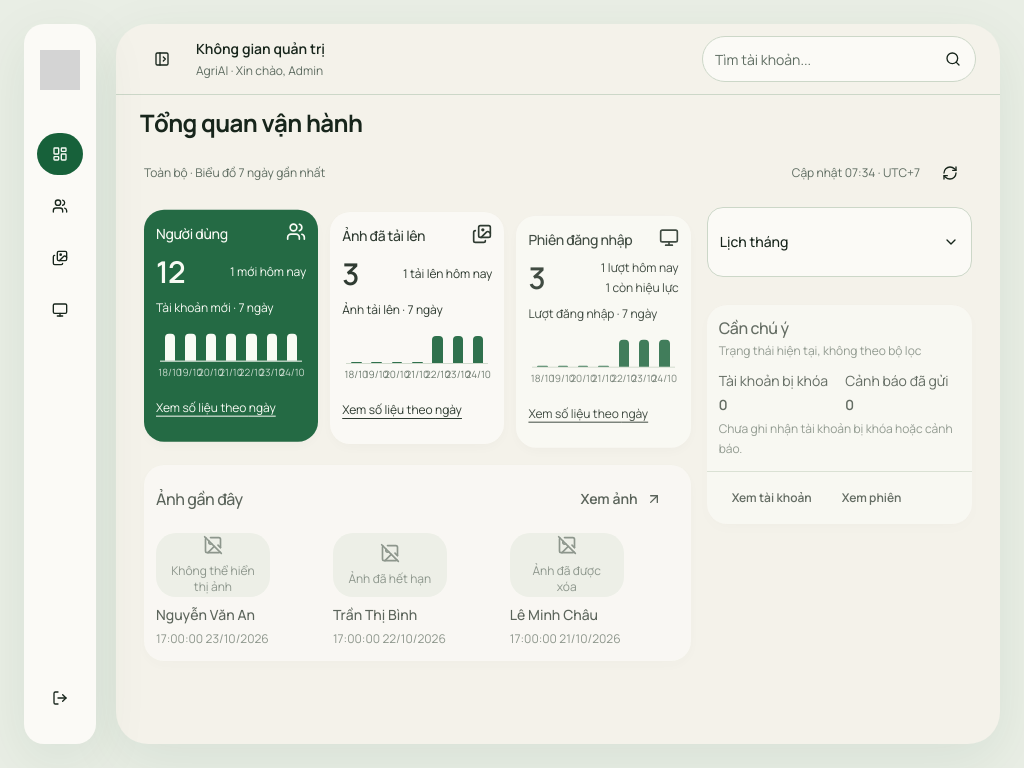
Admin frontend integration with real mock provider and components › simulates forced logout without clearing the actual admin login
Check: the heading "Tổng quan vận hành" is shown, box [140,106,362,139]
Click the button named "Người dùng" at (60, 206), box [36,184,84,228]
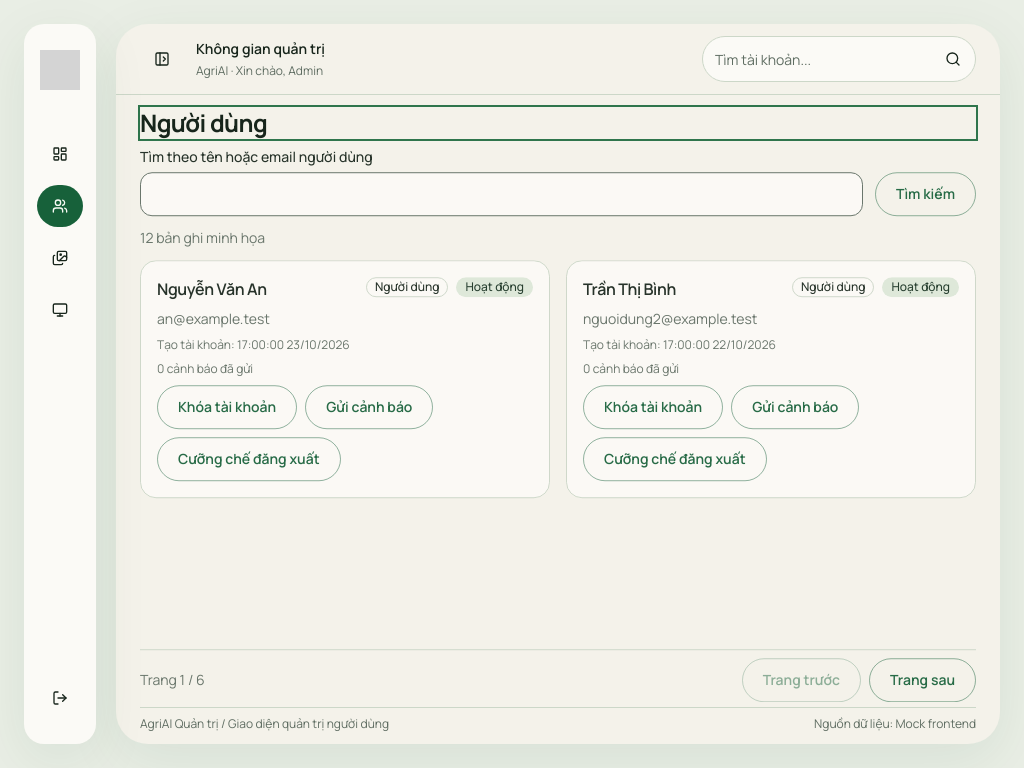
Click the button "Cưỡng chế đăng xuất" below "17:00:00 23/10/2026" at (249, 459), box [157,437,341,481]
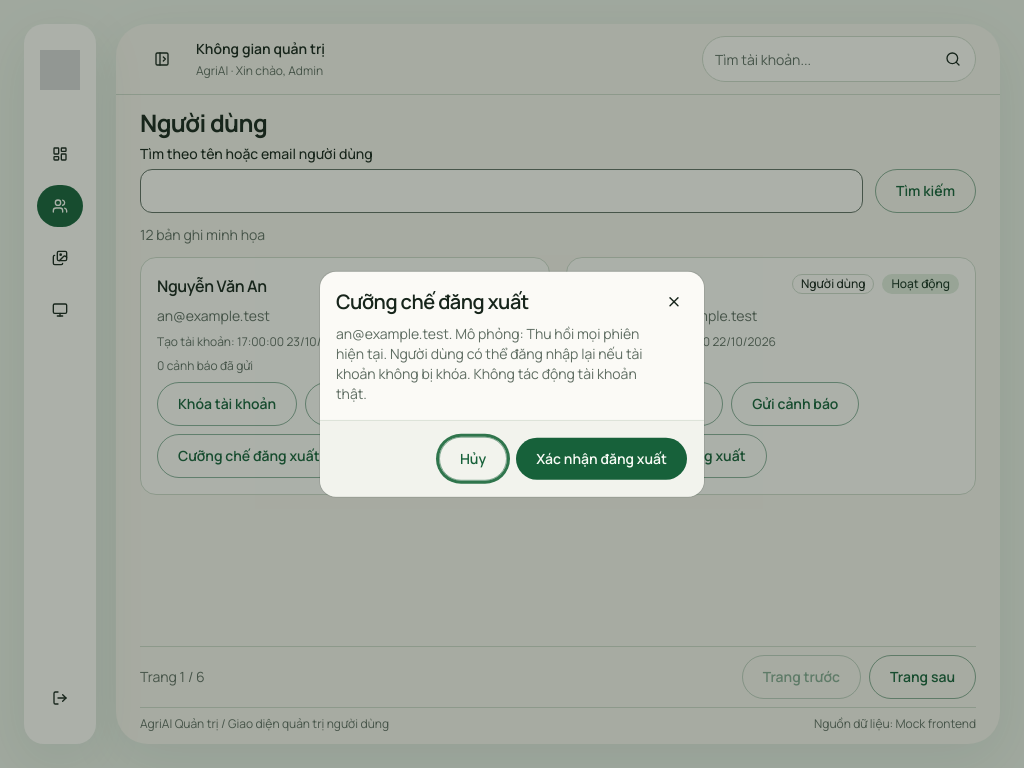
Click the button "Xác nhận đăng xuất" at (602, 458), box [515,436,688,480]
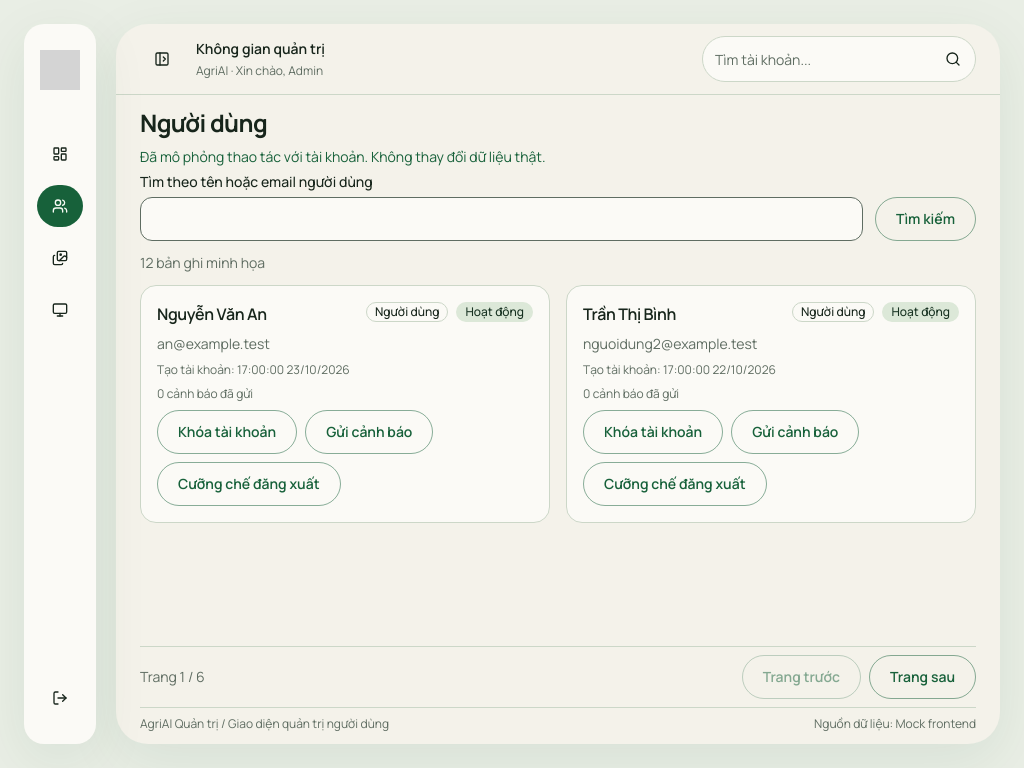
Check: the text "Hoạt động" in the row of "Nguyễn Văn An" is shown, box [466,303,524,320]
Check: the dialog is gone
Click the button named "Phiên đăng nhập" at (60, 310), box [36,288,84,332]
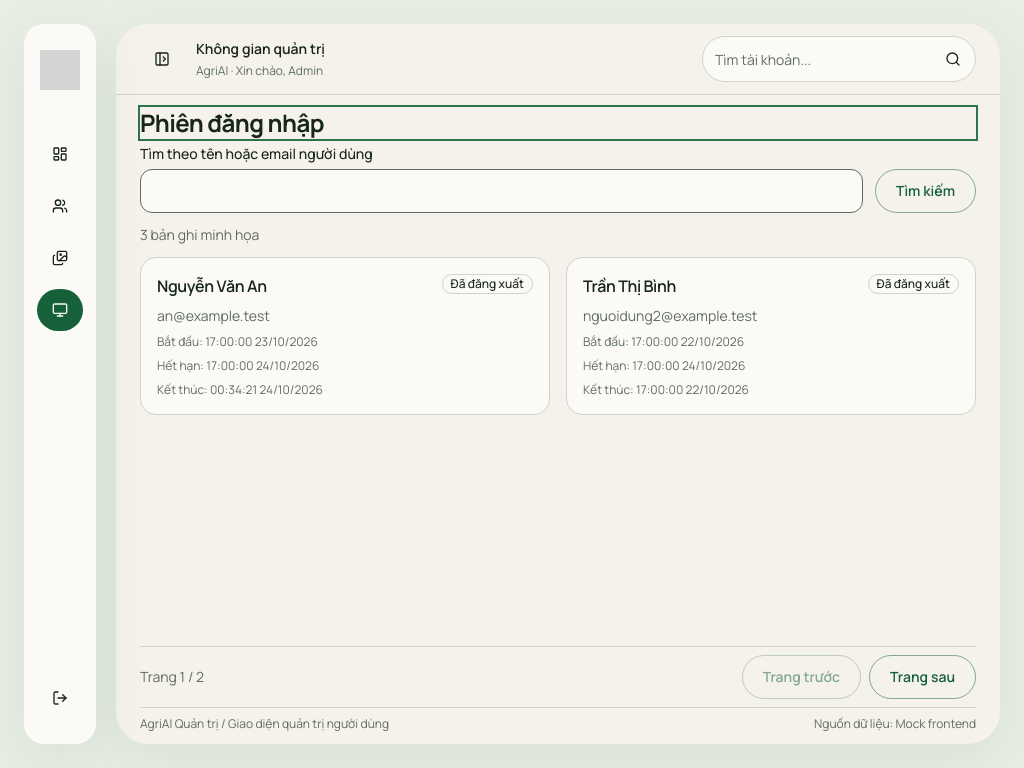
Check: the text "Đã đăng xuất" in the row of "Nguyễn Văn An" is shown, box [450,275,524,292]
